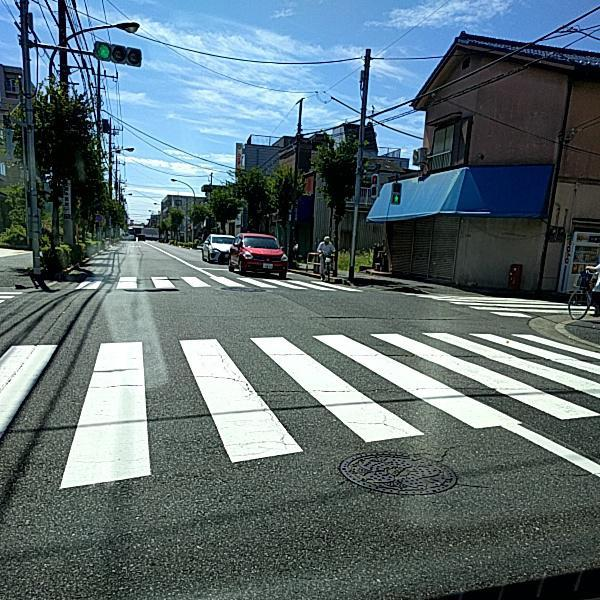D50: (333, 445, 454, 496)
